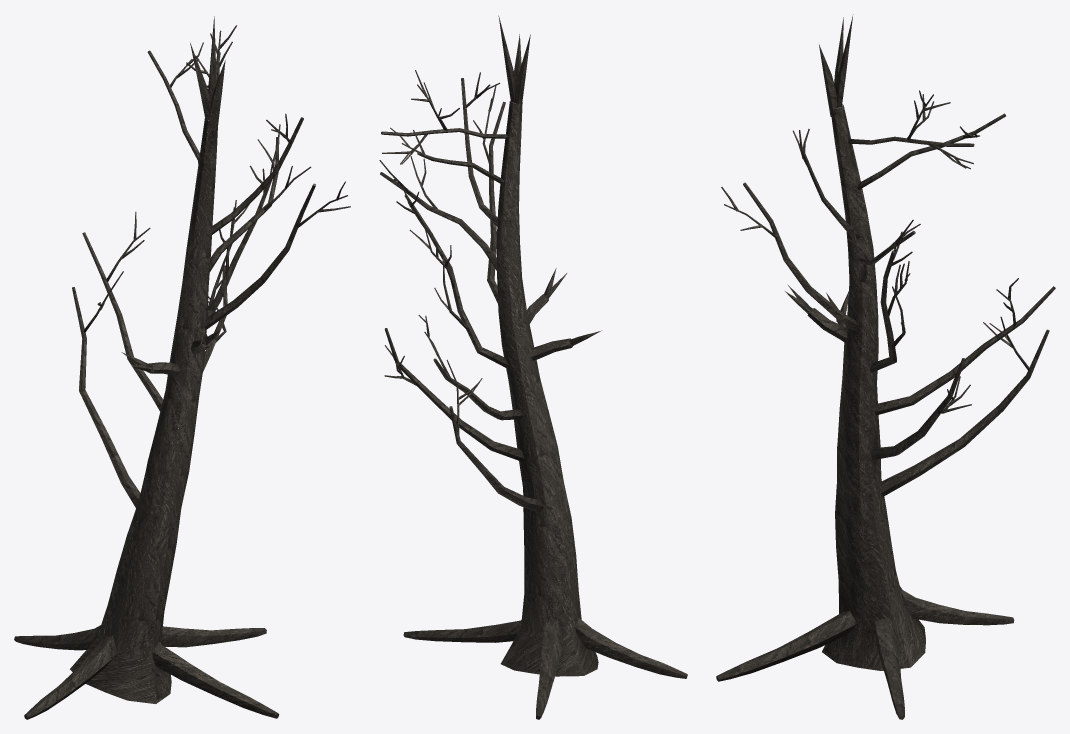
Rendered from dead_tree_a.glb.
The picture shows the model from 3 angles, left to right: view 1: azimuth 30°, elevation 25°; view 2: azimuth 150°, elevation 25°; view 3: azimuth 270°, elevation 25°; orthographic projection. The views are drawn at different scales.
Parts seen in each view (by area): view 1: dead_tree_a; view 2: dead_tree_a; view 3: dead_tree_a.
Part boxes in pixels (x1=…): dead_tree_a: x1=14, y1=16, x2=350, y2=719; dead_tree_a: x1=379, y1=15, x2=687, y2=719; dead_tree_a: x1=716, y1=14, x2=1055, y2=719.
Size of the model in its own units: 3.9 by 8.52 by 3.88.
Materials: 1 (1 with a texture image).
